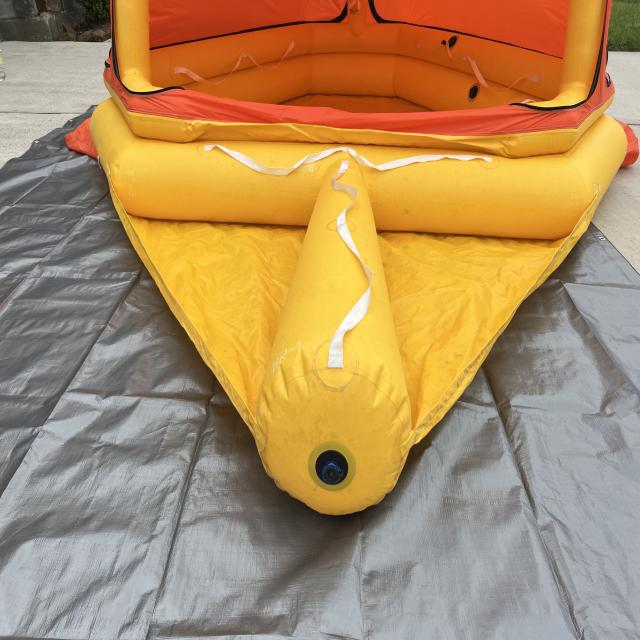Multi-person_life_raft: (64, 1, 639, 516)
